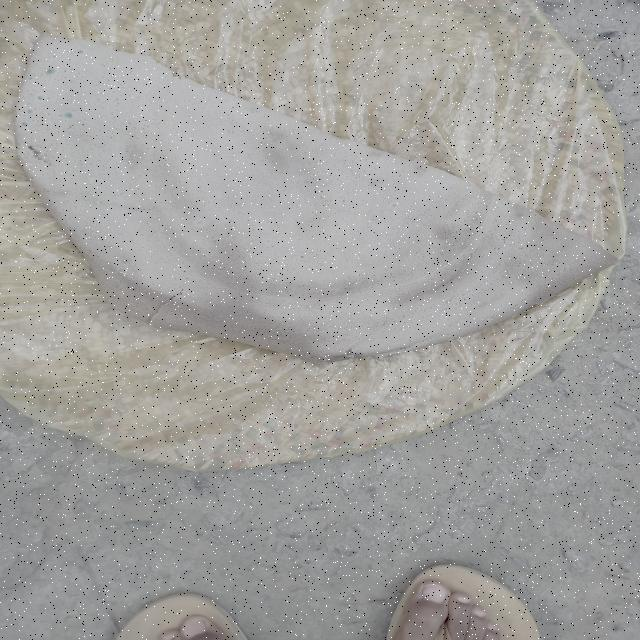injera_mold: (192, 218, 206, 228), (29, 148, 42, 156), (45, 67, 57, 75), (17, 148, 26, 158), (23, 161, 33, 169), (64, 112, 74, 119), (486, 317, 494, 324), (536, 261, 547, 266), (36, 95, 44, 101), (21, 122, 29, 127), (77, 49, 85, 54), (119, 271, 128, 275), (27, 109, 33, 115), (28, 76, 34, 81), (58, 114, 64, 118), (52, 54, 58, 58), (69, 67, 74, 70), (392, 204, 397, 207), (555, 262, 559, 265), (537, 254, 540, 257), (481, 318, 484, 320), (535, 258, 538, 260), (535, 268, 538, 270), (117, 268, 119, 270), (116, 270, 118, 272), (35, 56, 37, 58), (31, 57, 33, 59), (541, 270, 543, 272), (132, 272, 135, 273), (130, 277, 133, 278), (32, 54, 35, 55), (124, 263, 125, 265), (133, 264, 134, 266)
